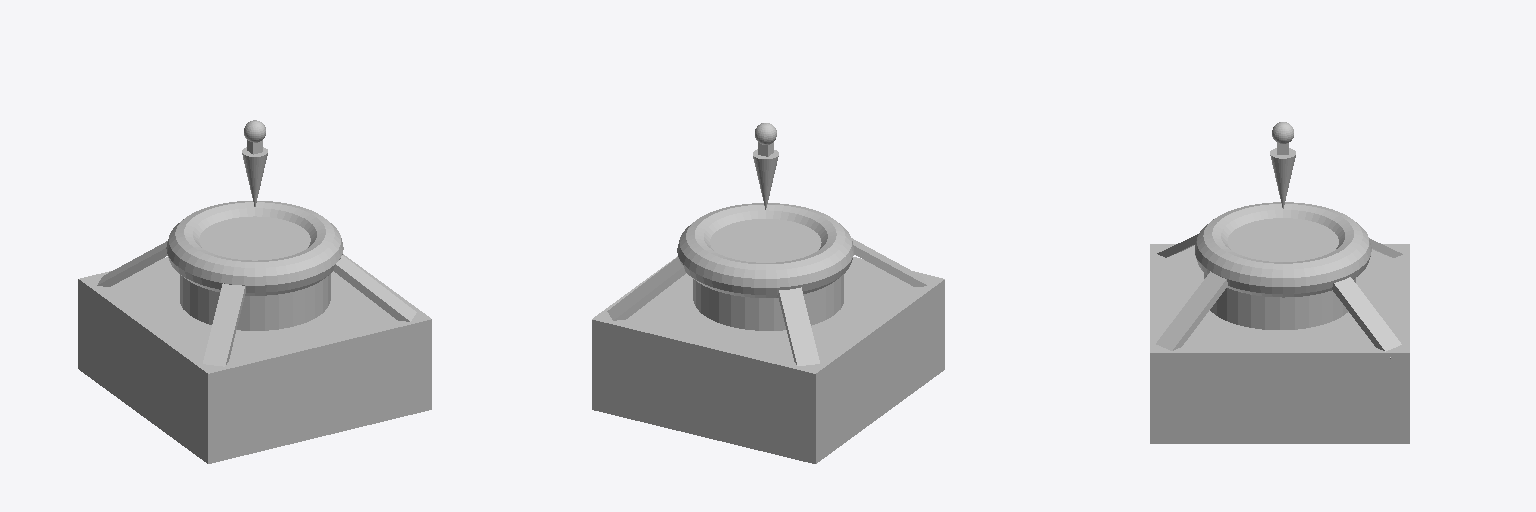
The model's file is enariasAltar.obj.
3 renders of one model, left to right at view 1: azimuth 30°, elevation 25°; view 2: azimuth 150°, elevation 25°; view 3: azimuth 270°, elevation 25°, orthographic.
Parts seen in each view (by area): view 1: Base, Torus, Cylinder, Arm1, Arm4, Arm2, Cone; view 2: Base, Torus, Cylinder, Arm2, Arm3, Arm1, Cone; view 3: Base, Torus, Cylinder, Arm4, Arm3, Cone.
Part boxes in pixels (x1,y1,x2,y2): Base: (78, 254, 431, 463); Torus: (166, 201, 343, 295); Cylinder: (180, 216, 330, 330); Arm1: (203, 283, 245, 366); Arm4: (333, 255, 416, 321); Arm2: (97, 241, 167, 286); Cone: (242, 147, 267, 206); Base: (592, 256, 944, 463); Torus: (677, 203, 854, 297); Cylinder: (693, 219, 843, 330); Arm2: (778, 287, 819, 365); Arm3: (607, 257, 685, 320); Arm1: (852, 238, 927, 286); Cone: (753, 149, 778, 209); Base: (1150, 244, 1409, 443); Torus: (1195, 202, 1371, 297); Cylinder: (1204, 218, 1355, 329); Arm4: (1156, 271, 1227, 350); Arm3: (1332, 277, 1401, 358); Cone: (1270, 148, 1295, 208).
Bounding box in the file's own units: 0.918 × 1.04 × 0.9174.